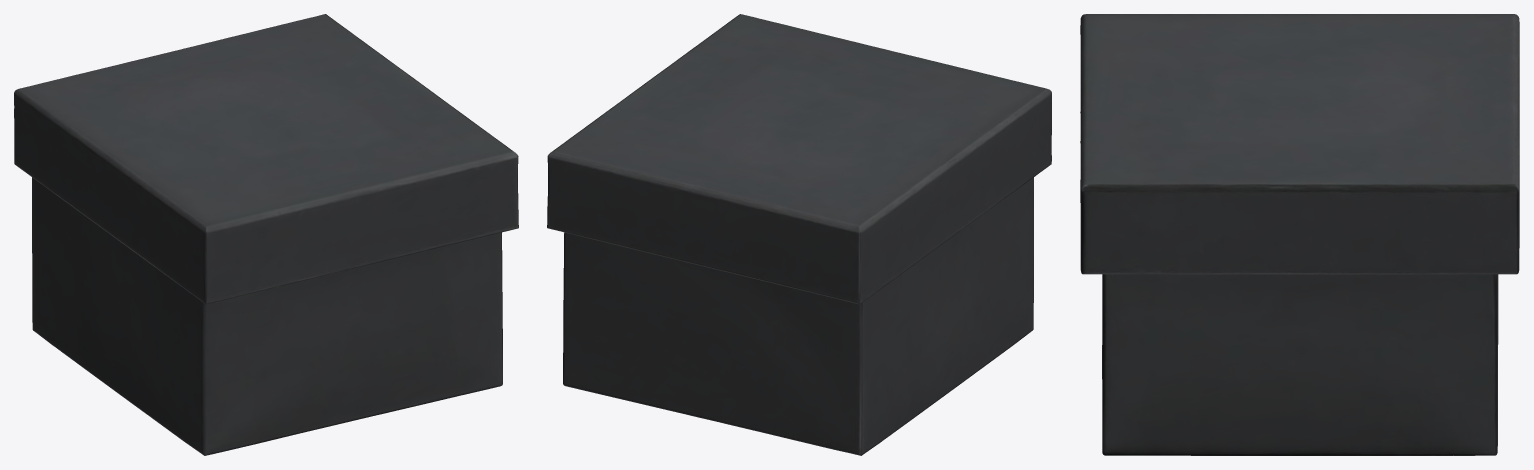
Rendered from caixa.glb.
3 renders of one model, left to right at view 1: azimuth 30°, elevation 25°; view 2: azimuth 150°, elevation 25°; view 3: azimuth 270°, elevation 25°, orthographic. The views are drawn at different scales.
Parts seen in each view (by area): view 1: model; view 2: model; view 3: model.
Part boxes in pixels (x1,y1,x2,y2): model: (14, 14, 518, 455); model: (547, 14, 1051, 455); model: (1080, 14, 1519, 455).
Size of the model in its own units: 1.79 by 1.31 by 1.9.
Materials: 1 (1 with a texture image).
